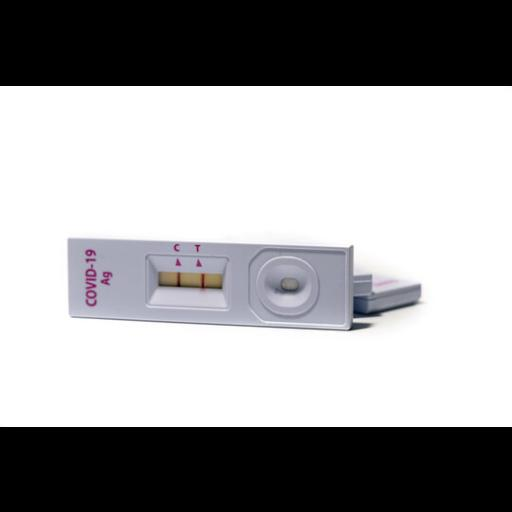Pos: (68, 237, 352, 330)
